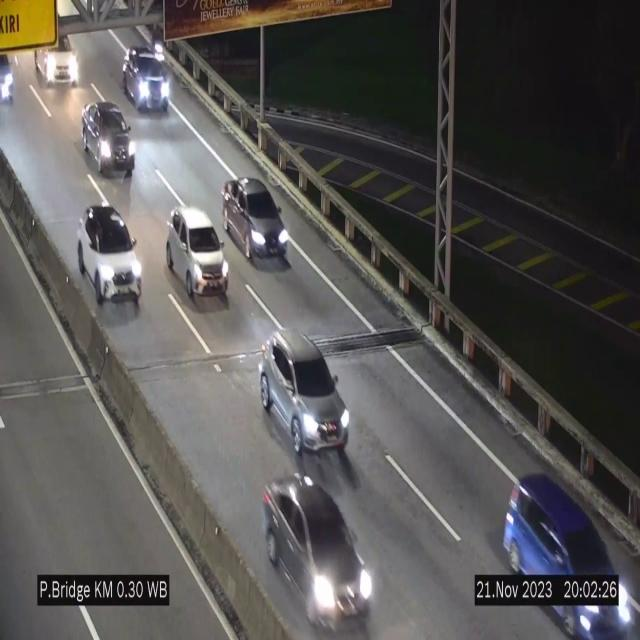Car: (508, 472, 630, 640), (262, 476, 373, 632), (259, 332, 350, 453), (77, 205, 142, 307), (222, 177, 290, 267), (168, 208, 228, 300), (82, 102, 136, 180), (29, 16, 86, 86), (122, 48, 171, 114), (0, 39, 23, 109)
